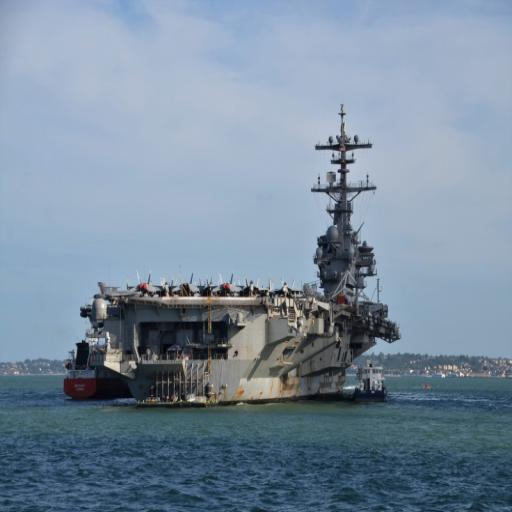Portanaves: (80, 103, 413, 416)
